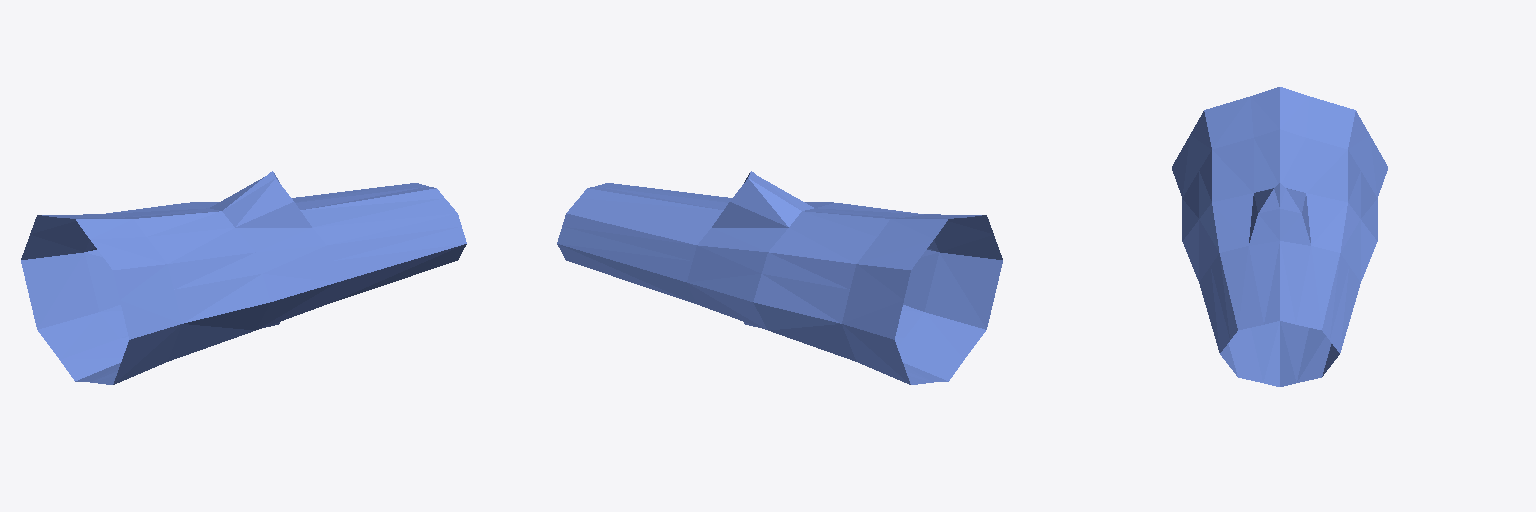
The model's file is Body_Rear.obj.
The picture shows the model from 3 angles: view 1: azimuth 30°, elevation 25°; view 2: azimuth 150°, elevation 25°; view 3: azimuth 270°, elevation 25°; orthographic projection.
Visible parts, largest first — view 1: polySurface6 pCylinder5; view 2: polySurface6 pCylinder5; view 3: polySurface6 pCylinder5.
Boxes of the visible parts, box(x1,y1,x2,y2) form: polySurface6 pCylinder5: box(21, 171, 466, 384); polySurface6 pCylinder5: box(557, 171, 1002, 384); polySurface6 pCylinder5: box(1172, 87, 1387, 386).
Size of the model in its own units: 4.99 by 2.14 by 2.59.